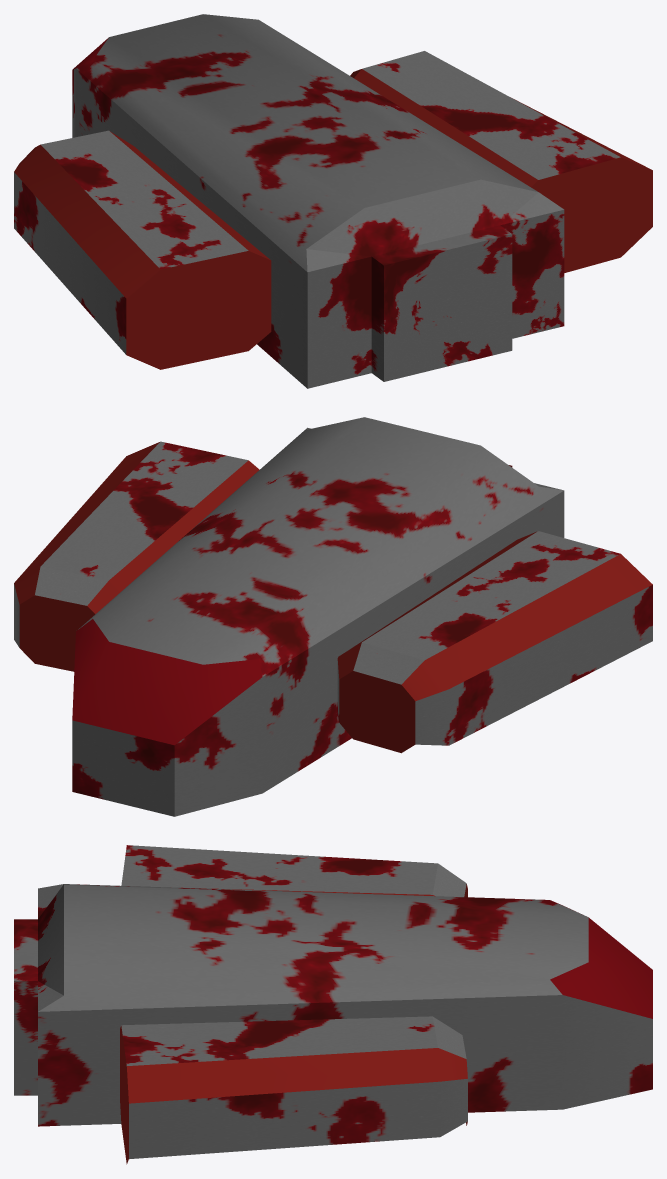
The model's file is MardarianOne.fbx.
3 views of the same model, one above another, from view 1: azimuth 30°, elevation 25°; view 2: azimuth 150°, elevation 25°; view 3: azimuth 270°, elevation 25° (orthographic).
Visible parts, largest first — view 1: mardarian_1; view 2: mardarian_1; view 3: mardarian_1.
Boxes of the visible parts, x1=… form: mardarian_1: x1=14, y1=14, x2=652, y2=388; mardarian_1: x1=14, y1=417, x2=652, y2=816; mardarian_1: x1=14, y1=845, x2=652, y2=1164.
Bounding box in the file's own units: 5640 × 6024 × 1576.
